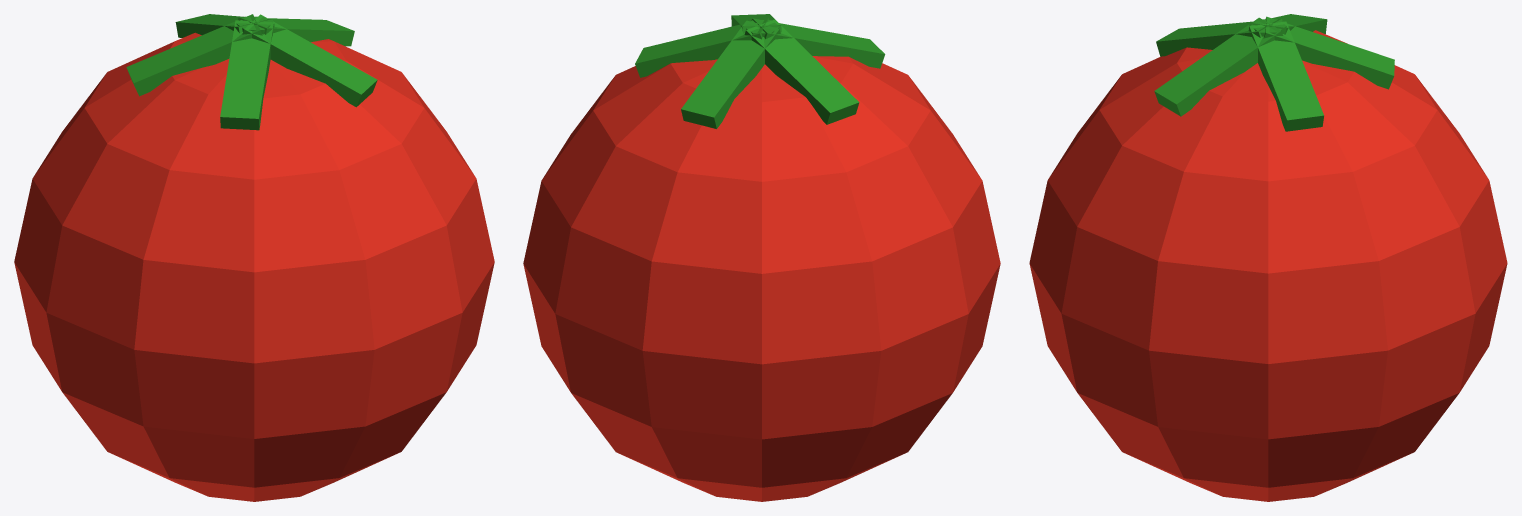
Rendered from tomato.glb.
3 views of the same model, side by side, from view 1: azimuth 30°, elevation 25°; view 2: azimuth 150°, elevation 25°; view 3: azimuth 270°, elevation 25° (orthographic).
Visible parts, largest first — view 1: Tomato; view 2: Tomato; view 3: Tomato.
Boxes of the visible parts, x1,y1,x2,y2 form: Tomato: (14,14,494,501); Tomato: (523,14,1000,501); Tomato: (1029,14,1507,501).
Bounding box in the file's own units: 2.1 × 2.21 × 2.1.
